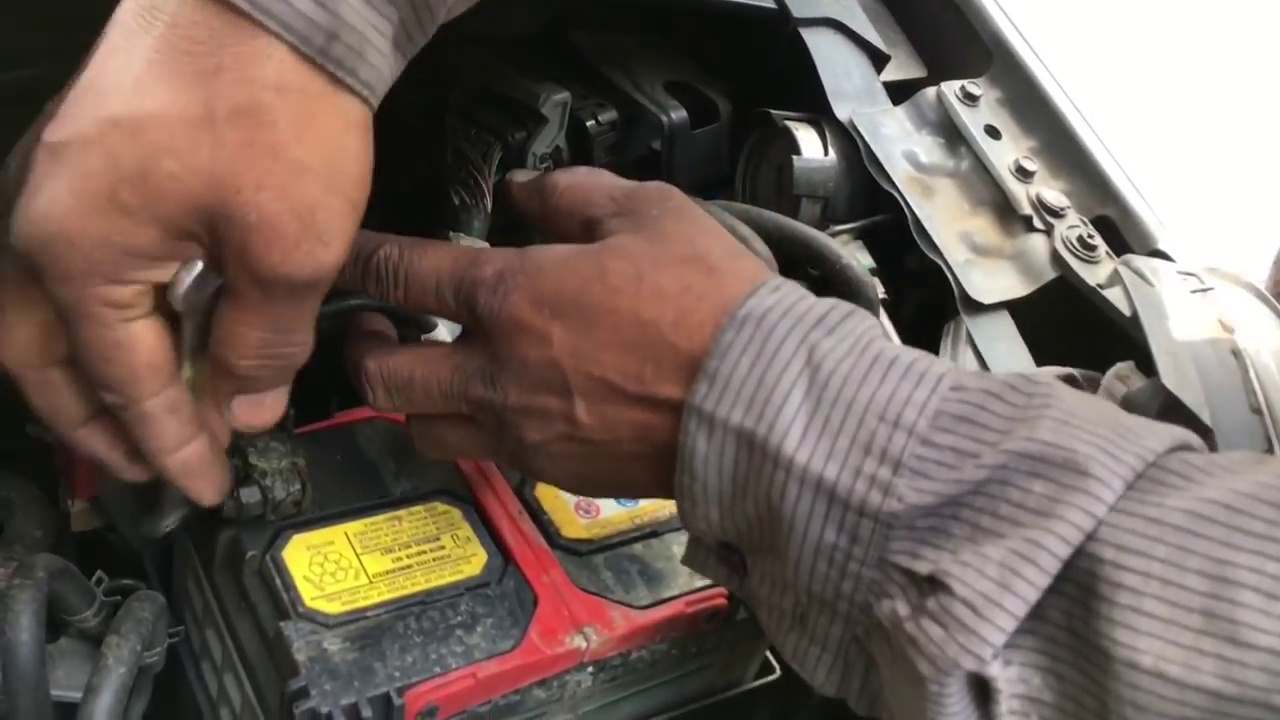battery: (201, 383, 781, 699)
